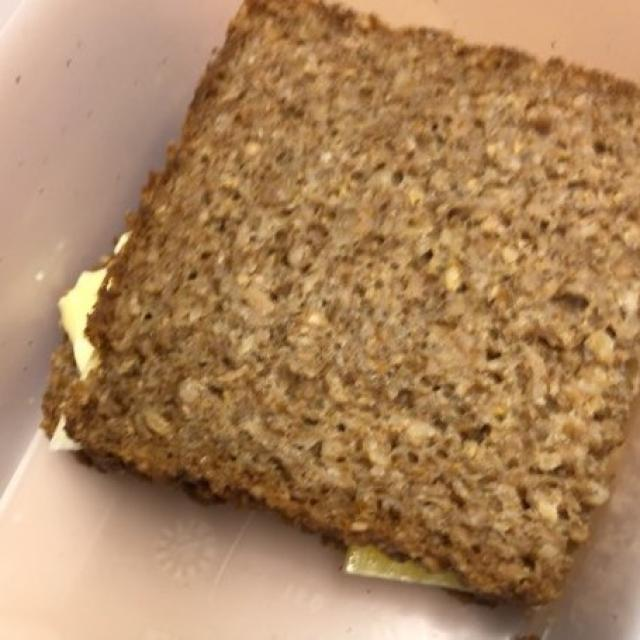bread: (49, 9, 627, 586)
butter: (63, 234, 447, 590)
